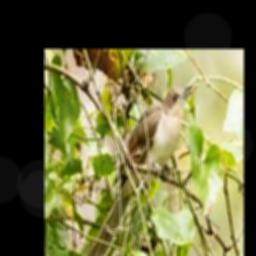Cuckoo: (80, 84, 191, 256)
